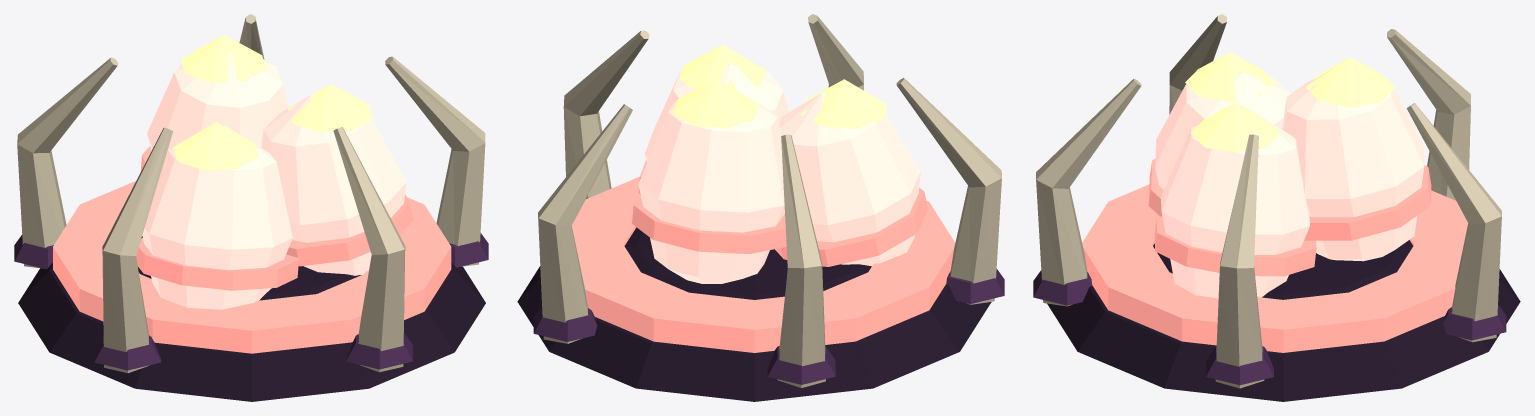
Rendered from brood_pod.glb.
The picture shows the model from 3 angles, left to right: view 1: azimuth 30°, elevation 25°; view 2: azimuth 150°, elevation 25°; view 3: azimuth 270°, elevation 25°; orthographic projection.
Visible parts, largest first — view 1: Surf_GLOW, Surf_bone, Surf_TEAM, Surf_dark, Surf_acid, Surf_chit; view 2: Surf_GLOW, Surf_TEAM, Surf_bone, Surf_dark, Surf_acid, Surf_chit; view 3: Surf_GLOW, Surf_TEAM, Surf_bone, Surf_dark, Surf_acid, Surf_chit.
Part boxes in pixels (x1,y1,x2,y2): Surf_GLOW: (142, 52, 406, 309); Surf_bone: (17, 14, 485, 373); Surf_TEAM: (53, 146, 451, 353); Surf_dark: (18, 236, 485, 401); Surf_acid: (173, 34, 373, 171); Surf_chit: (14, 233, 488, 370); Surf_GLOW: (638, 63, 920, 283); Surf_TEAM: (572, 160, 955, 352); Surf_bone: (538, 14, 1001, 387); Surf_dark: (517, 227, 991, 401); Surf_acid: (673, 44, 887, 128); Surf_chit: (533, 269, 1004, 384); Surf_GLOW: (1155, 68, 1424, 298); Surf_TEAM: (1082, 159, 1468, 352); Surf_bone: (1036, 14, 1501, 388); Surf_dark: (1047, 240, 1520, 401); Surf_acid: (1185, 52, 1394, 152); Surf_chit: (1033, 270, 1506, 385).
Bounding box in the file's own units: 3.49 × 1.94 × 3.47.
